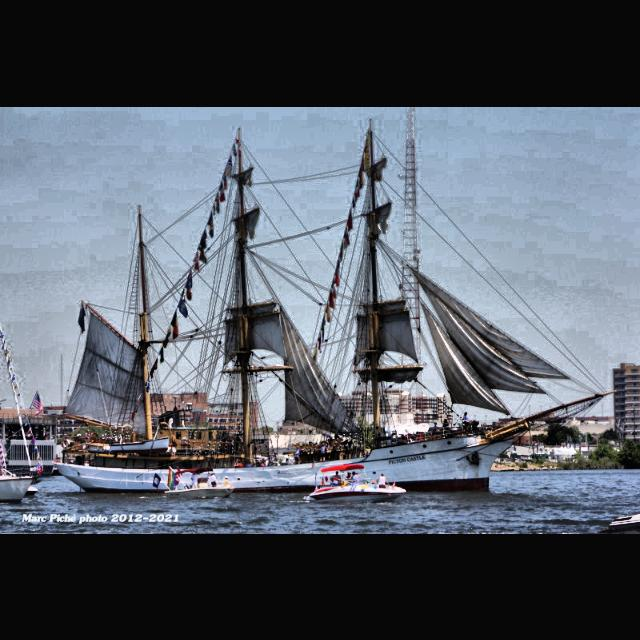sailing_vessel: (51, 116, 617, 494)
